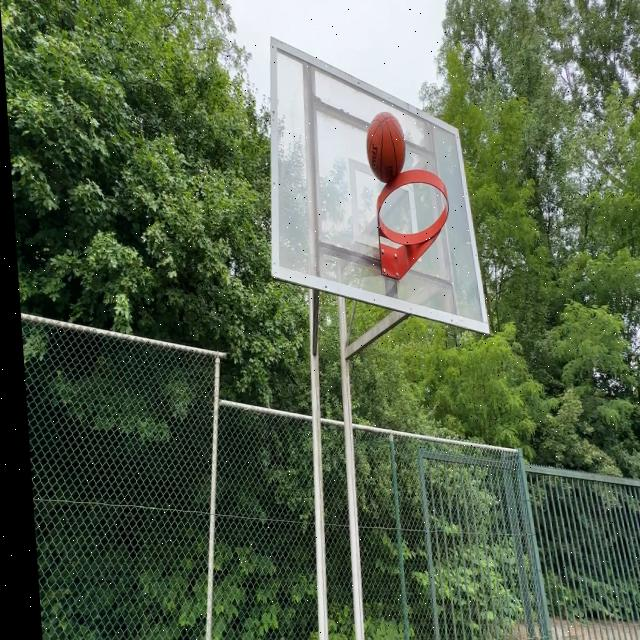rebound_hit: (365, 110, 408, 188)
